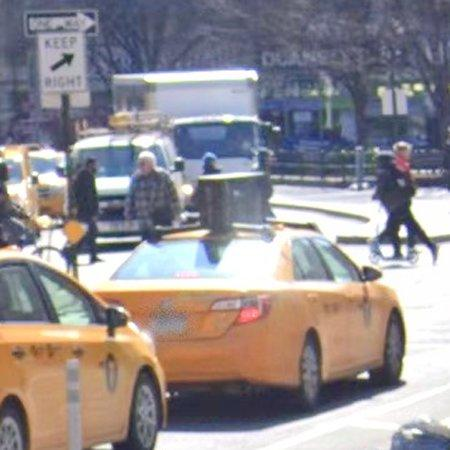taxis: (97, 223, 407, 405), (0, 251, 167, 450)
